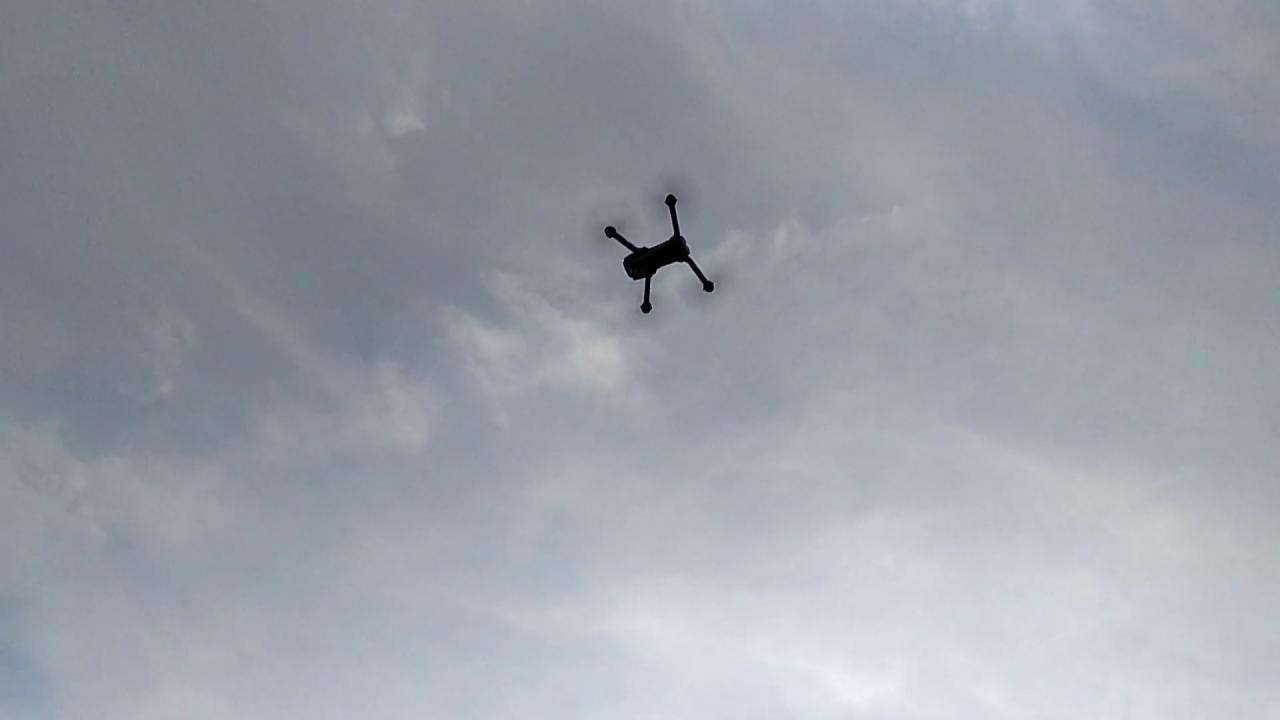Drone: (567, 160, 759, 341)
